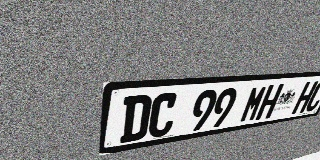9: (188, 89, 219, 132), (208, 87, 239, 128)
C: (147, 92, 180, 139), (303, 80, 320, 112)
D: (119, 94, 153, 143)
H: (255, 84, 284, 120), (291, 81, 319, 114)
M: (239, 85, 269, 123)
